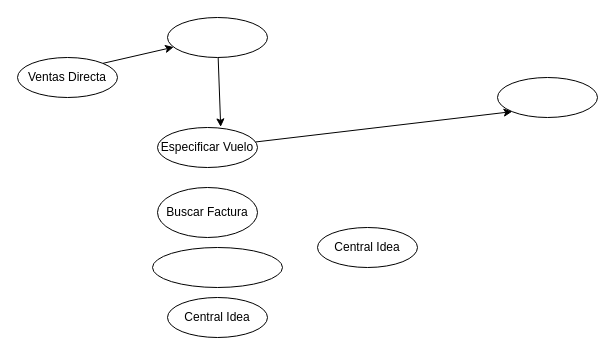
The diagram is 615 pixels wide and 355 high, and some of its shapes have lost their labels. The centre of each missing label's shape, as x and y in pixels:
"Entrega Informacion Vuelo" goes at (x=217, y=267).
"Especificar Pasajero" goes at (x=217, y=37).
"Facturas" goes at (x=547, y=97).
